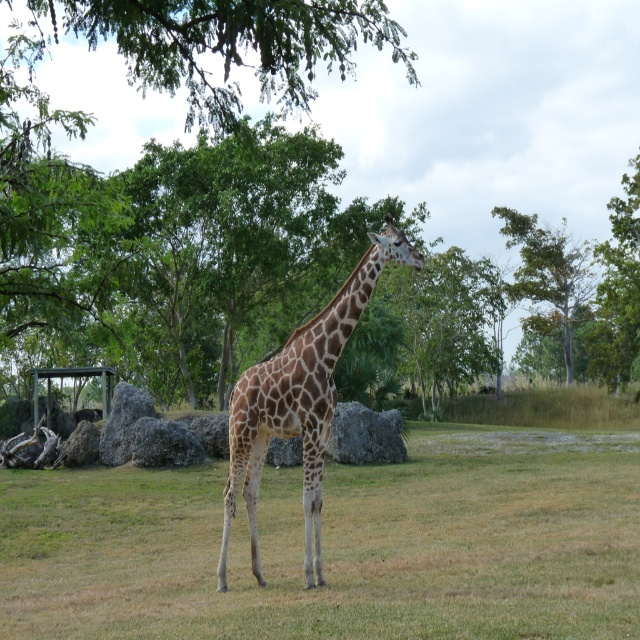Giraffe: (215, 214, 430, 594)
